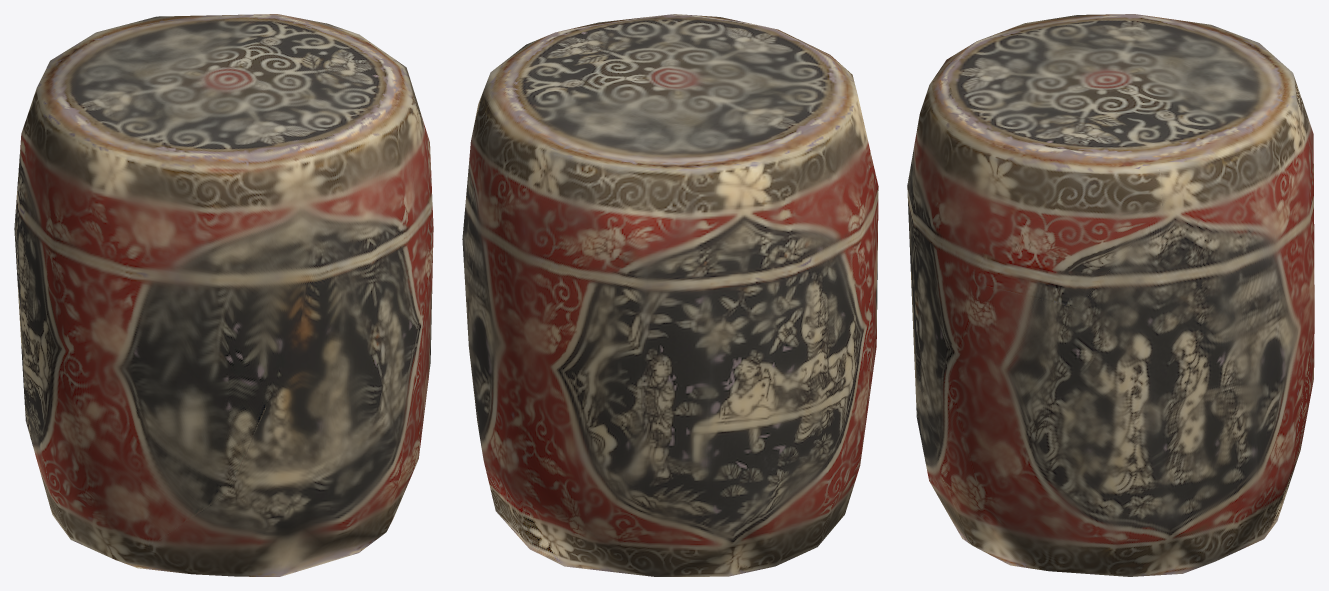
3 renders of one model, left to right at view 1: azimuth 30°, elevation 25°; view 2: azimuth 150°, elevation 25°; view 3: azimuth 270°, elevation 25°, orthographic.
Parts seen in each view (by area): view 1: pMesh1; view 2: pMesh1; view 3: pMesh1.
Boxes of the visible parts, x1,y1,x2,y2 form: pMesh1: [14, 14, 433, 576]; pMesh1: [462, 14, 878, 576]; pMesh1: [907, 14, 1314, 576].
Size of the model in its own units: 0.0388 by 0.0448 by 0.0381.
Materials: 1 (1 with a texture image).
